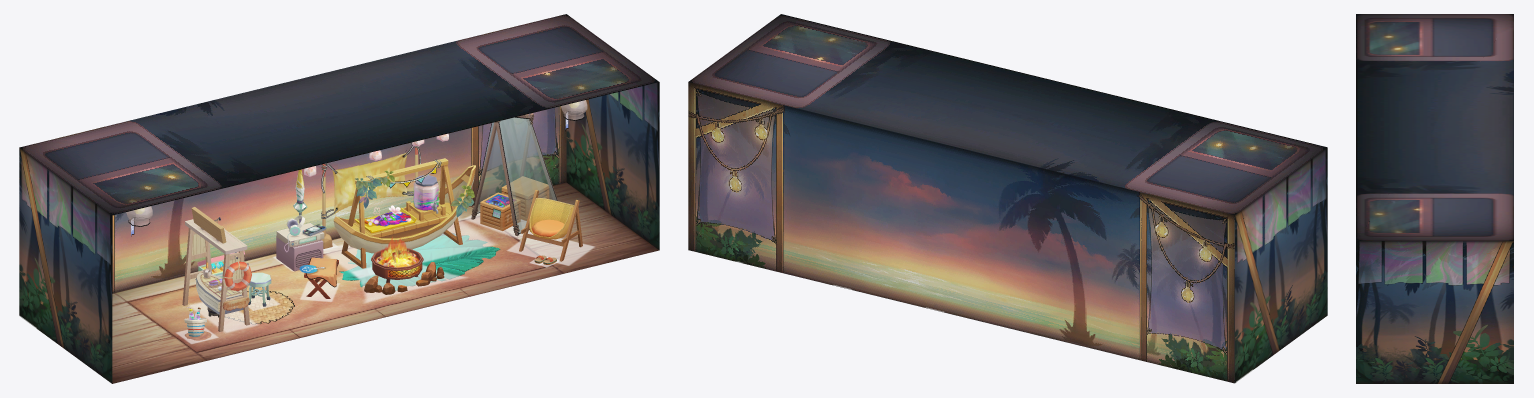
Rendered from outdoor.glb.
The picture shows the model from 3 angles, left to right: view 1: azimuth 30°, elevation 25°; view 2: azimuth 150°, elevation 25°; view 3: azimuth 270°, elevation 25°; orthographic projection. The views are drawn at different scales.
Visible parts, largest first — view 1: ROOM_room, ROOM_floor, furni_outdoor_bar2_01, furni_outdoor_bar_01, furni_outdoor_tent_02, furni_outdoor_tent_01, furni_outdoor_carpet2_01, furni_outdoor_chair_01, furni_outdoor_hangingNet_02, shadow_01.010, furni_outdoor_soundSystem_01, furni_outdoor_bonfire_01 (+9 smaller); view 2: ROOM_room, ROOM_LDoor; view 3: ROOM_room, ROOM_RDoor.
Boxes of the visible parts, bbox=[...] form: ROOM_room: bbox=[19, 14, 659, 383]; ROOM_floor: bbox=[112, 182, 658, 383]; furni_outdoor_bar2_01: bbox=[333, 158, 475, 268]; furni_outdoor_bar_01: bbox=[182, 207, 251, 331]; furni_outdoor_tent_02: bbox=[477, 117, 556, 232]; furni_outdoor_tent_01: bbox=[471, 113, 557, 236]; furni_outdoor_carpet2_01: bbox=[339, 233, 500, 290]; furni_outdoor_chair_01: bbox=[519, 190, 582, 264]; furni_outdoor_hangingNet_02: bbox=[321, 143, 420, 218]; shadow_01.010: bbox=[323, 217, 496, 277]; furni_outdoor_soundSystem_01: bbox=[276, 169, 326, 271]; furni_outdoor_bonfire_01: bbox=[364, 248, 444, 294]; ROOM_room: bbox=[688, 14, 1327, 383]; ROOM_LDoor: bbox=[1295, 249, 1313, 338]; ROOM_room: bbox=[1356, 14, 1513, 383]; ROOM_RDoor: bbox=[1379, 319, 1411, 383].
Bounding box in the file's own units: 7.54 × 2.2 × 2.28.
7 materials, 7 textured.
